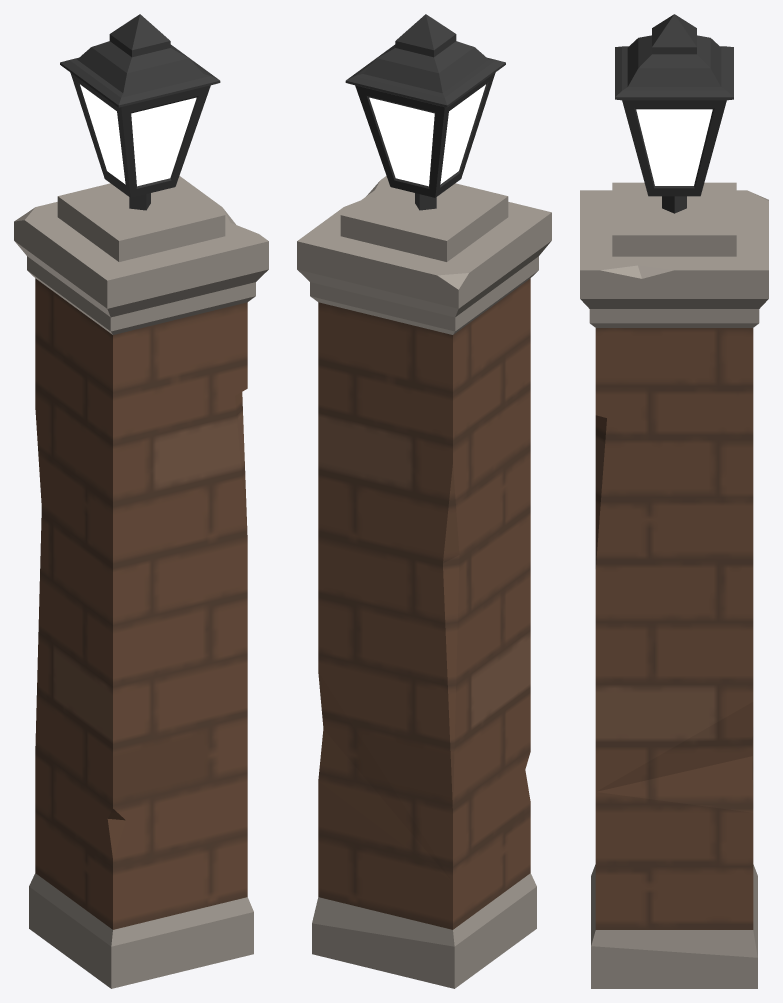
File: SM_Props_City_Park_Fence_Column_02.fbx
3 views of the same model, side by side, from view 1: azimuth 30°, elevation 25°; view 2: azimuth 150°, elevation 25°; view 3: azimuth 270°, elevation 25° (orthographic).
Visible parts, largest first — view 1: SM_Props_City_Park_Fence_Column_02; view 2: SM_Props_City_Park_Fence_Column_02; view 3: SM_Props_City_Park_Fence_Column_02.
Boxes of the visible parts, box(x1,y1,x2,y2) form: SM_Props_City_Park_Fence_Column_02: box(14, 14, 268, 988); SM_Props_City_Park_Fence_Column_02: box(297, 14, 551, 988); SM_Props_City_Park_Fence_Column_02: box(580, 14, 768, 988).
Size of the model in its own units: 60 by 329 by 60.
